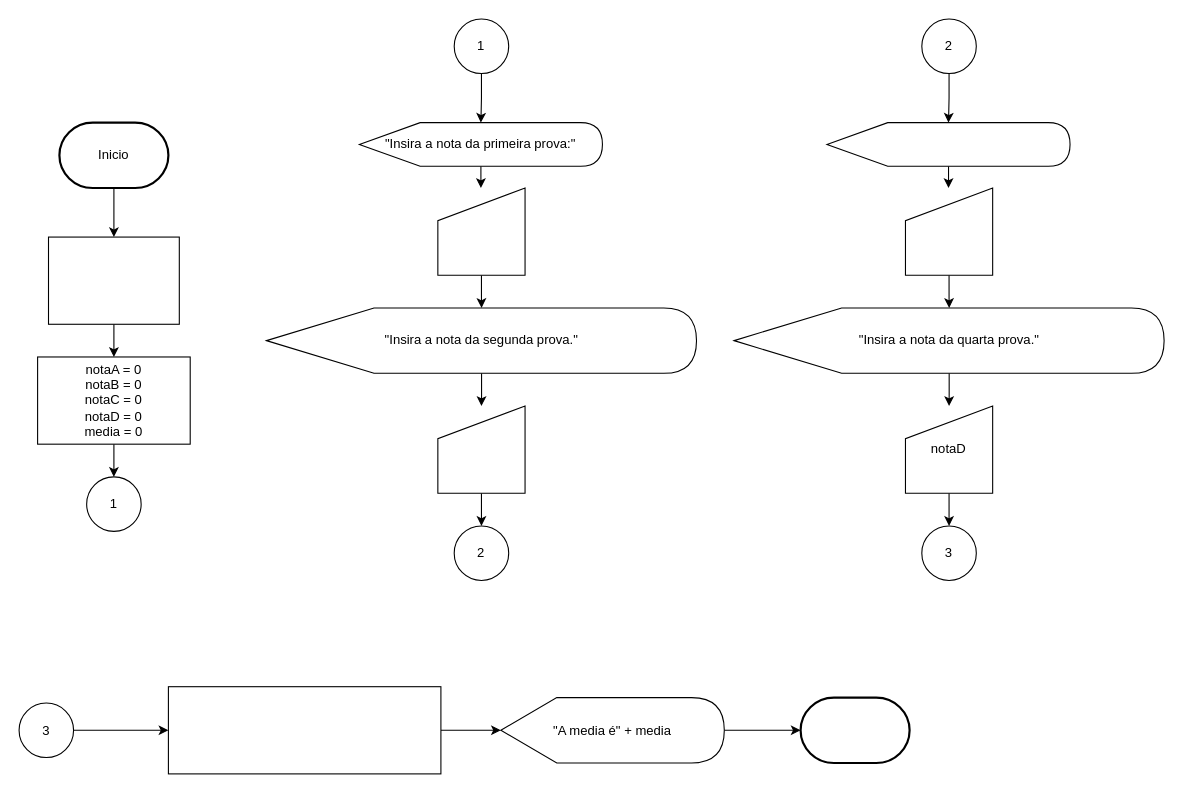
The diagram is 1184 pixels wide and 794 high, and some of its shapes have lost their labels. The centre of each missing label's shape, as x and y in pixels:
"Insira a nota da terceira prova:": (x=948, y=144)
fim: (x=854, y=730)
Float notaA Float notaB Float notaC Float notaD Float media: (x=113, y=280)
media = (notaA + notaB + notaC + notaD) / 4: (x=304, y=730)
notaA: (x=481, y=231)
notaB: (x=481, y=449)
notaC: (x=948, y=231)
